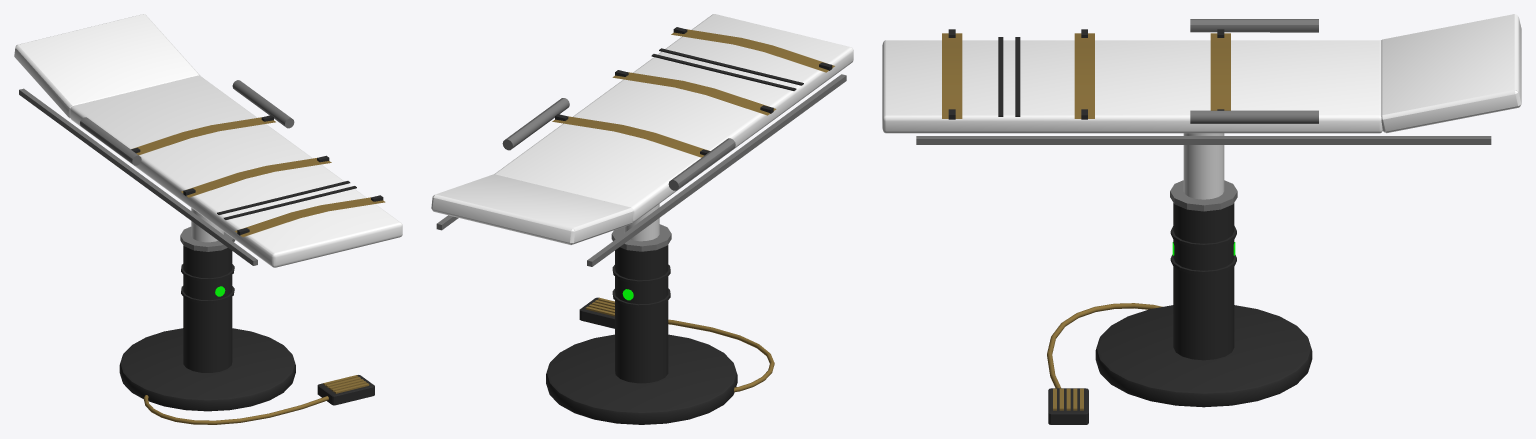
Rendered from mazy-table-operation.glb.
3 renders of one model, left to right at view 1: azimuth 30°, elevation 25°; view 2: azimuth 150°, elevation 25°; view 3: azimuth 270°, elevation 25°, orthographic. The views are drawn at different scales.
Parts seen in each view (by area): view 1: DossierTete, BézierCurve; view 2: DossierTete, BézierCurve; view 3: DossierTete, BézierCurve.
Boxes of the visible parts, x1,y1,x2,y2 form: DossierTete: (14,14,402,411); BézierCurve: (143,395,328,424); DossierTete: (431,14,853,424); BézierCurve: (668,319,774,392); DossierTete: (882,14,1521,424); BézierCurve: (1047,303,1162,388).
Bounding box in the file's own units: 0.7973 × 1.01 × 1.89.
